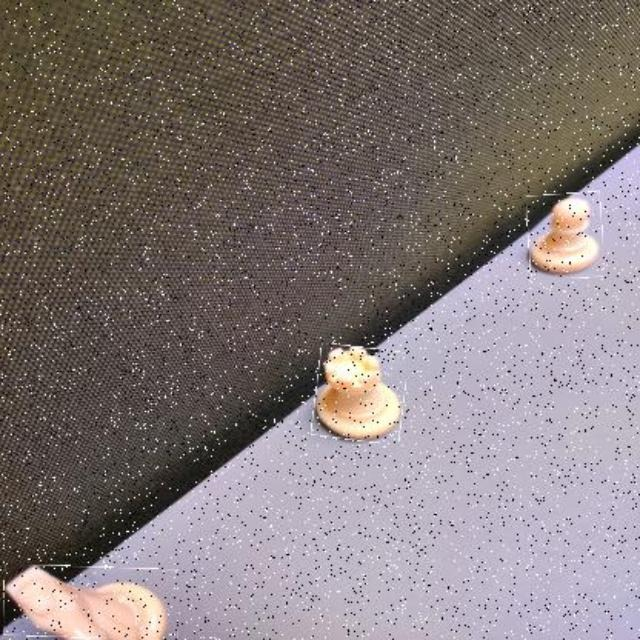white-knight: (4, 567, 180, 639)
white-pawn: (528, 192, 603, 279)
white-rook: (313, 345, 405, 443)
